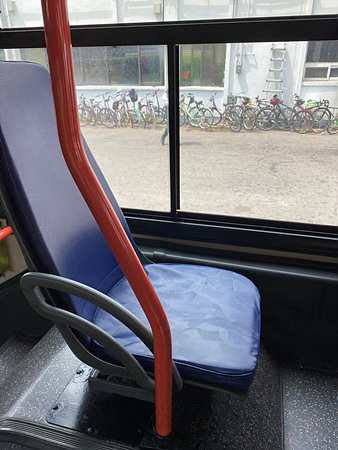seat: (3, 61, 261, 390)
